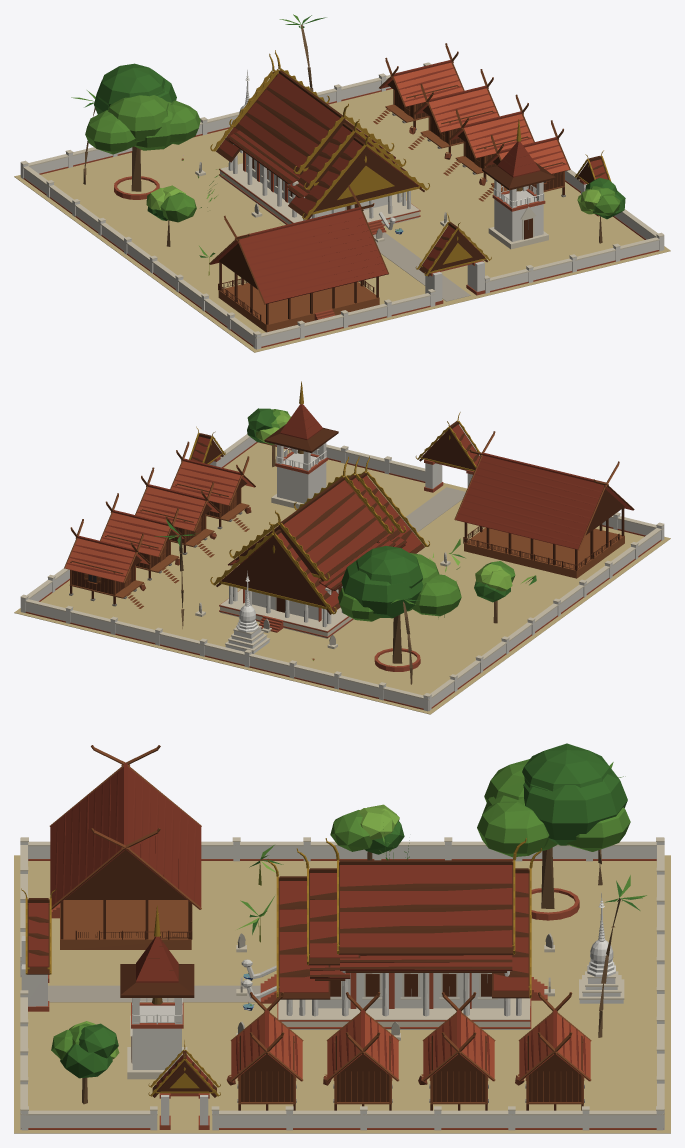
File: temple_2.glb
The picture shows the model from 3 angles, top to bottom: view 1: azimuth 30°, elevation 25°; view 2: azimuth 150°, elevation 25°; view 3: azimuth 270°, elevation 25°; orthographic projection. The views are drawn at different scales.
Parts seen in each view (by area): view 1: body; view 2: body; view 3: body.
Boxes of the visible parts, box(x1,y1,x2,y2) form: body: box(14, 14, 670, 352); body: box(14, 381, 670, 714); body: box(14, 743, 670, 1133).
Size of the model in its own units: 47.9 by 13.16 by 47.9.
